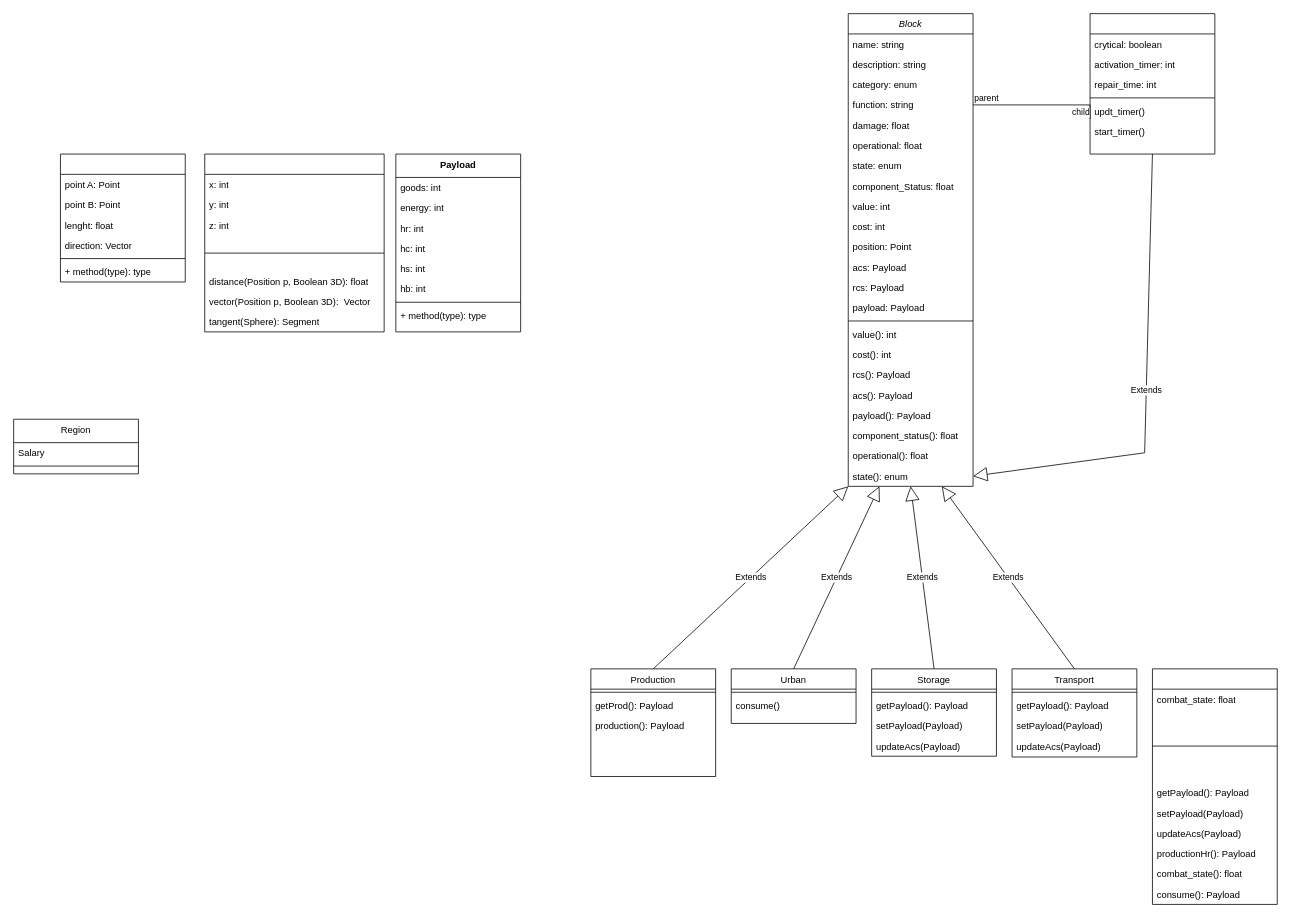
This 1291x920 diagram has some shape labels left out. Here are the shapes that lost their labels. From the top down, the box of each, then its label:
(1089, 13, 1215, 154): Asset
(60, 153, 185, 282): Segment
(204, 153, 384, 332): Point
(1152, 668, 1277, 904): Military
